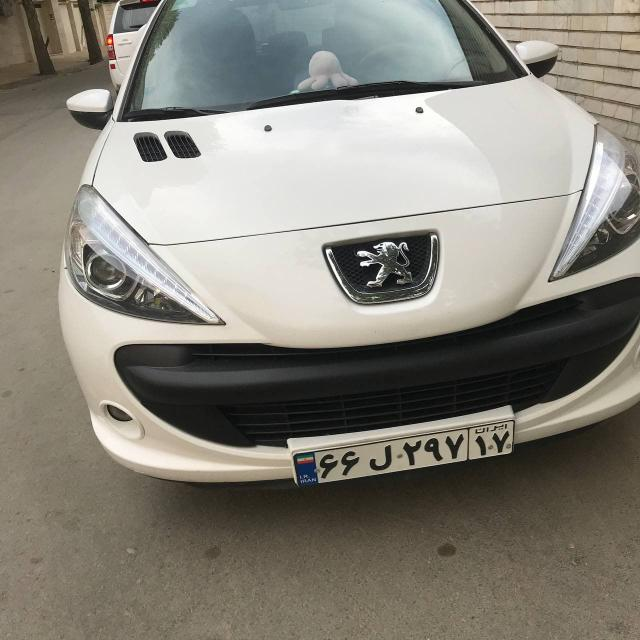Plates: (293, 420, 519, 486)
